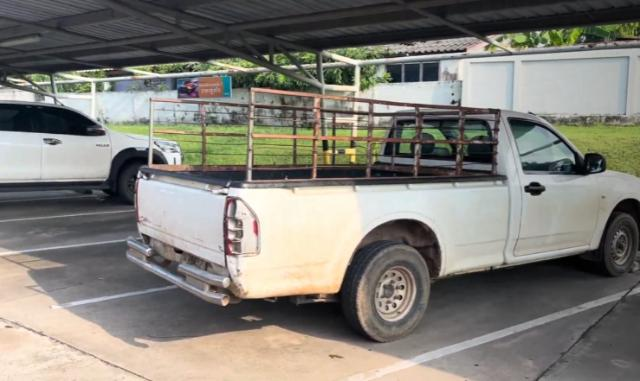pickup-truck: (135, 96, 640, 343)
